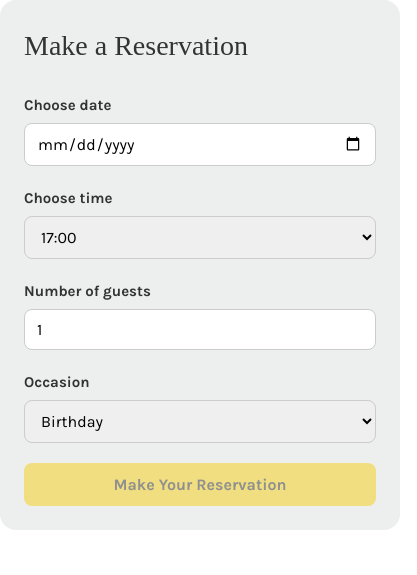
Test: date validation › shows error when date is not selected and form is submitted
Manually trigger submit with no date
Replace the text in the number field labelled "Number of guests" with "2" at coordinates (200, 329), box [24,309,376,350]
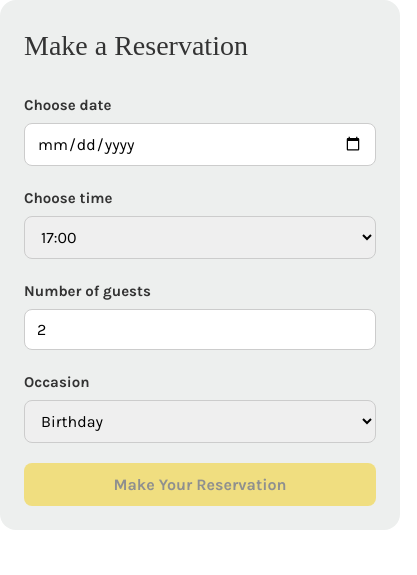
Submit the form named "reservation form"
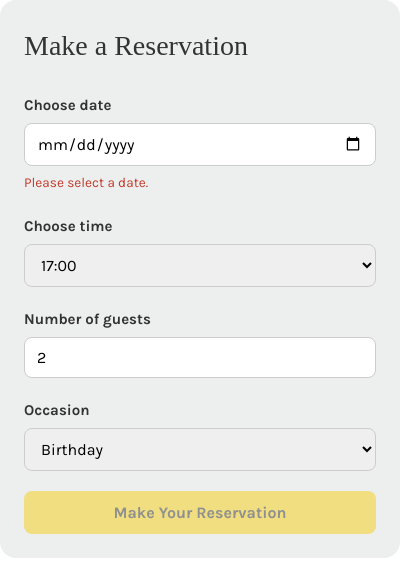
Check: the text "Please select a date." is shown, box [24,175,148,190]
